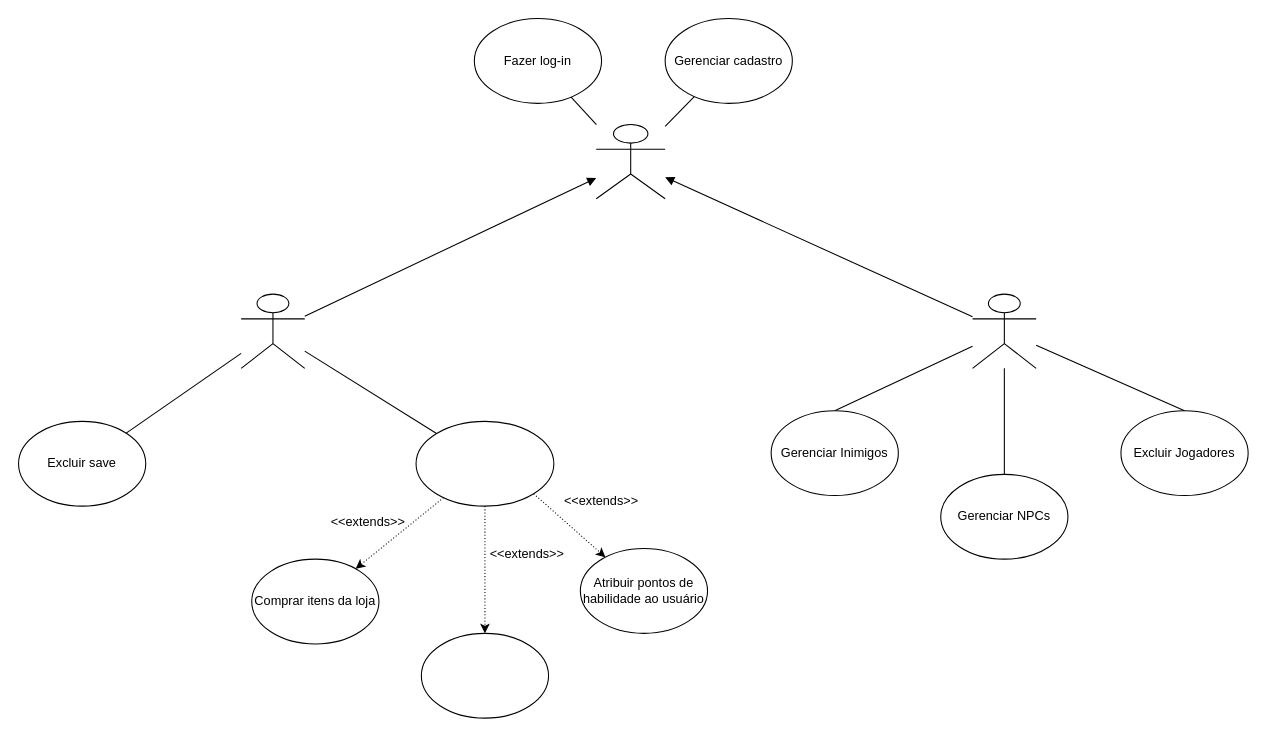
Image size: 1267x737. Some labels were removed from this diagram. Each missing label, with the centre of its shape:
"Adm" belongs at (x=1003, y=330).
"Iniciar jogo" belongs at (x=484, y=463).
"Jogador" belongs at (x=272, y=330).
"User" belongs at (x=630, y=161).
